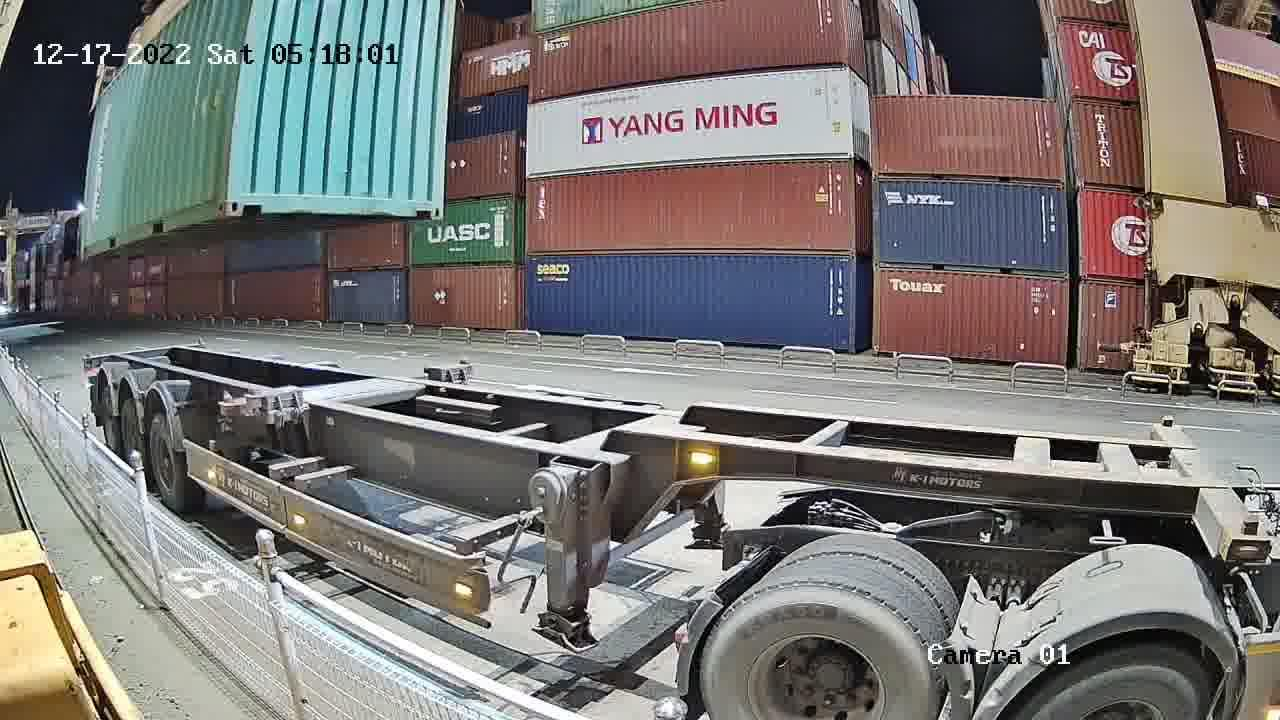Chassis: (237, 363, 472, 427)
Cone: (219, 412, 238, 432)
Container: (227, 179, 444, 219)
Hole_L: (227, 178, 253, 217)
Hole_R: (415, 181, 443, 213), (206, 179, 227, 215)
Tire: (697, 593, 936, 719), (1009, 642, 1223, 719), (149, 416, 183, 511), (117, 402, 144, 468)
